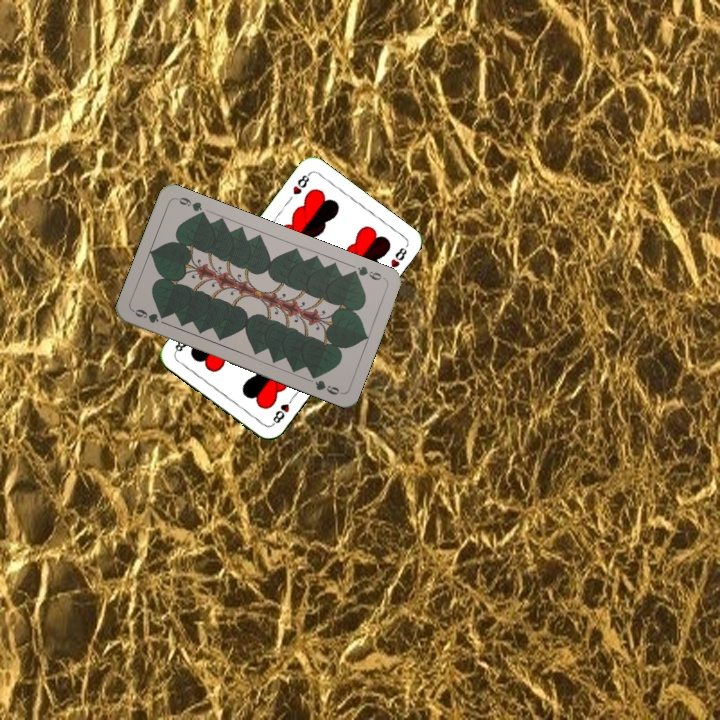G9: (346, 262, 388, 283), (129, 305, 162, 326)
H8: (268, 392, 297, 428), (289, 169, 313, 197)
